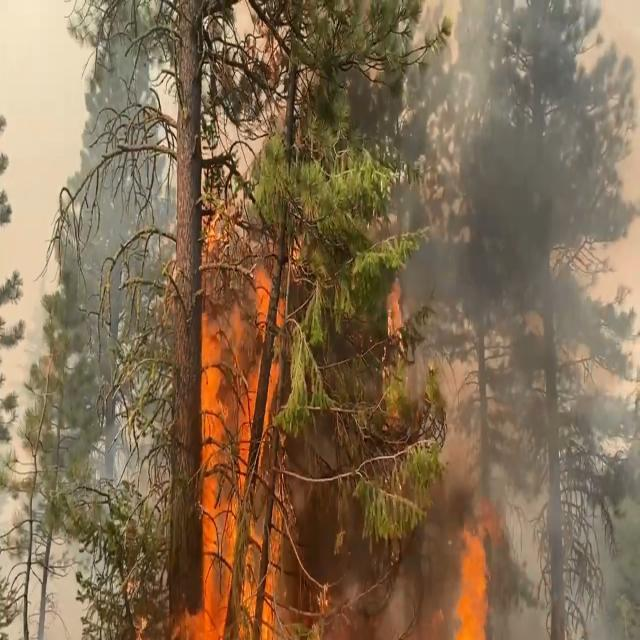Fire: (143, 172, 498, 640)
